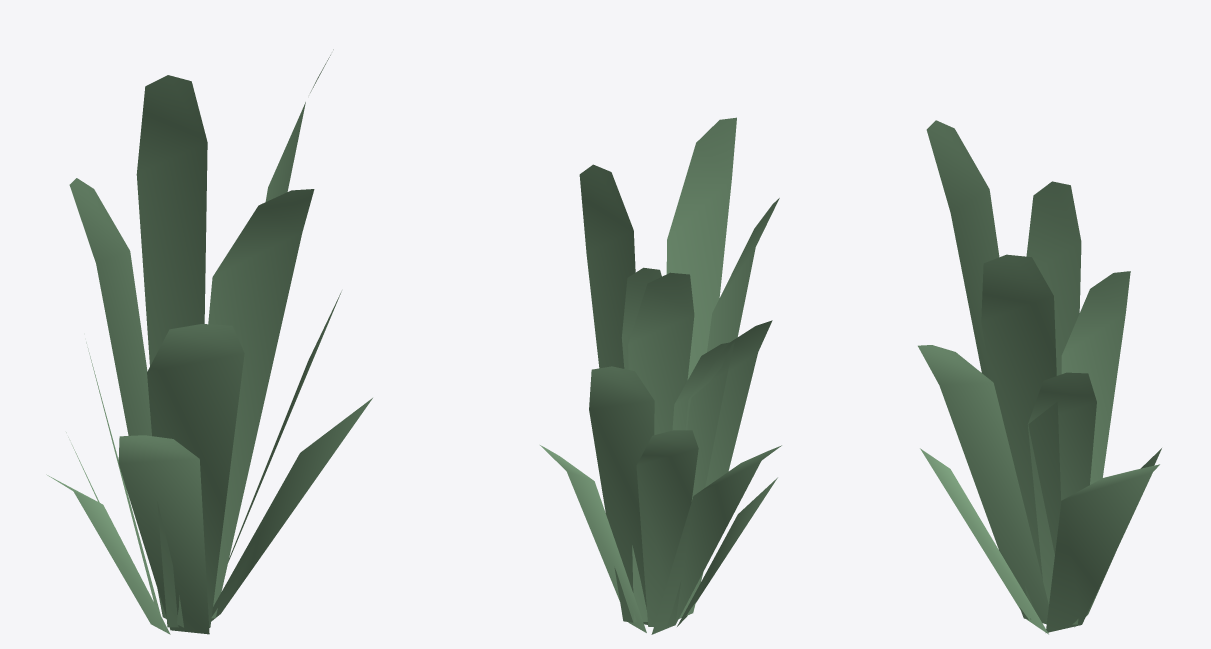
Rendered from buisson2.glb.
The picture shows the model from 3 angles, left to right: view 1: azimuth 30°, elevation 25°; view 2: azimuth 150°, elevation 25°; view 3: azimuth 270°, elevation 25°; orthographic projection. The views are drawn at different scales.
Parts seen in each view (by area): view 1: Extrusion 3 (×4), Extrusion 4 (×3), Extrusion 5, Extrusion 2 (×2); view 2: Extrusion 0 (×4), Extrusion 4 (×3), Extrusion 5 (×4), Extrusion 1; view 3: Extrusion 2 (×4), Extrusion 1 (×3), Extrusion 3.
Part boxes in pixels (x1,y1,x2,y2): Extrusion 3 (×4): [136, 75, 372, 627]; Extrusion 4 (×3): [69, 178, 209, 634]; Extrusion 5: [46, 474, 170, 634]; Extrusion 2 (×2): [228, 49, 341, 562]; Extrusion 0 (×4): [579, 164, 781, 634]; Extrusion 4 (×3): [666, 117, 779, 618]; Extrusion 5 (×4): [621, 267, 777, 626]; Extrusion 1: [540, 445, 646, 632]; Extrusion 2 (×4): [918, 120, 1159, 632]; Extrusion 1 (×3): [1026, 181, 1130, 624]; Extrusion 3: [920, 448, 1048, 634].
Bounding box in the file's own units: 158 × 284 × 155.
